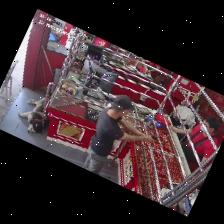person: (84, 95, 153, 174), (187, 125, 214, 163), (144, 60, 160, 69)
